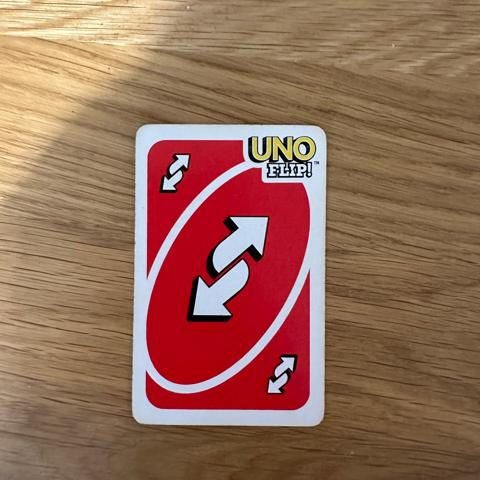lredrevers-20: (142, 134, 207, 206)
